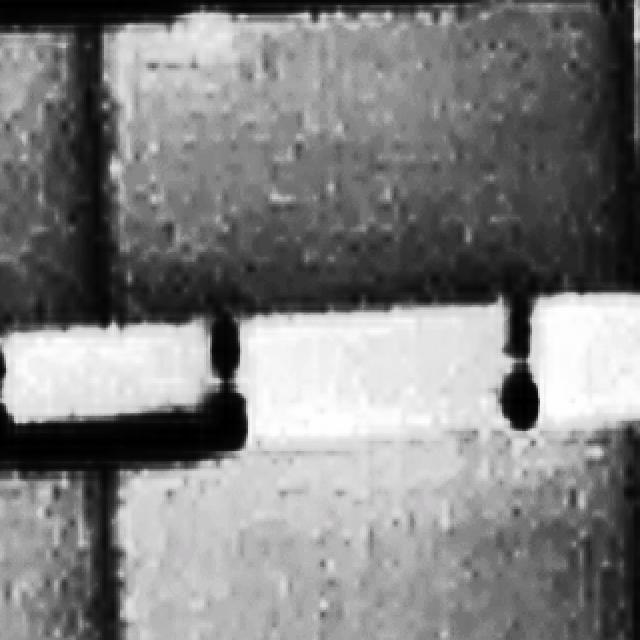Hotspots: (156, 0, 244, 55)
PV-modules: (101, 0, 637, 318), (104, 466, 640, 640), (0, 6, 108, 332), (0, 472, 115, 640)
